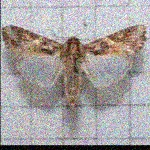Spodoptera litura: (1, 17, 147, 106)
